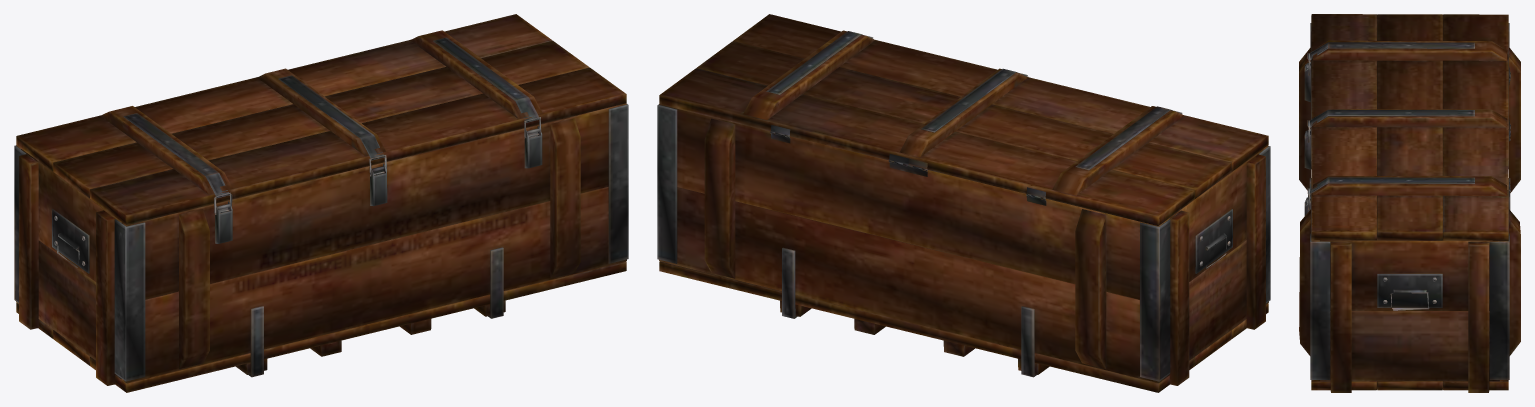
Rendered from crate_open.glb.
3 renders of one model, left to right at view 1: azimuth 30°, elevation 25°; view 2: azimuth 150°, elevation 25°; view 3: azimuth 270°, elevation 25°, orthographic. The views are drawn at different scales.
Visible parts, largest first — view 1: wooden_military_crate, wooden_military_crate_lid; view 2: wooden_military_crate, wooden_military_crate_lid; view 3: wooden_military_crate_lid, wooden_military_crate.
Part boxes in pixels (x1=…): wooden_military_crate: x1=14, y1=103, x2=628, y2=392; wooden_military_crate_lid: x1=16, y1=14, x2=626, y2=224; wooden_military_crate: x1=657, y1=104, x2=1270, y2=392; wooden_military_crate_lid: x1=659, y1=14, x2=1268, y2=225; wooden_military_crate_lid: x1=1307, y1=14, x2=1510, y2=240; wooden_military_crate: x1=1299, y1=23, x2=1520, y2=392.
Bounding box in the file's own units: 1.24 × 0.464 × 0.5158.
Materials: 1 (1 with a texture image).
